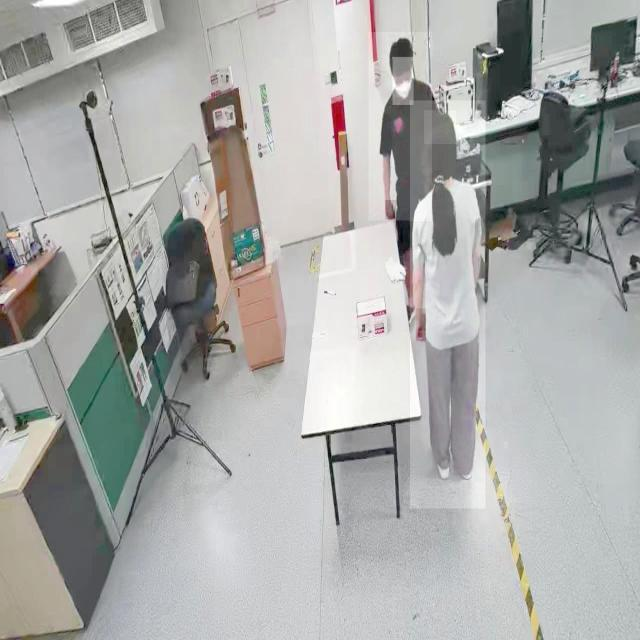face_mask: (392, 57, 414, 106)
hand_noglove: (416, 308, 426, 342), (384, 200, 396, 220)
head_nohelmet: (424, 110, 456, 145), (388, 34, 414, 60)
person: (410, 100, 486, 510), (368, 32, 432, 221)
